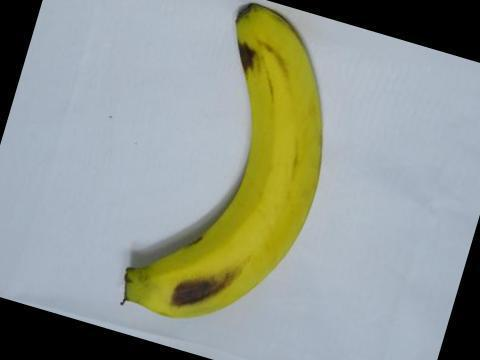freshripe: (109, 3, 353, 331)
